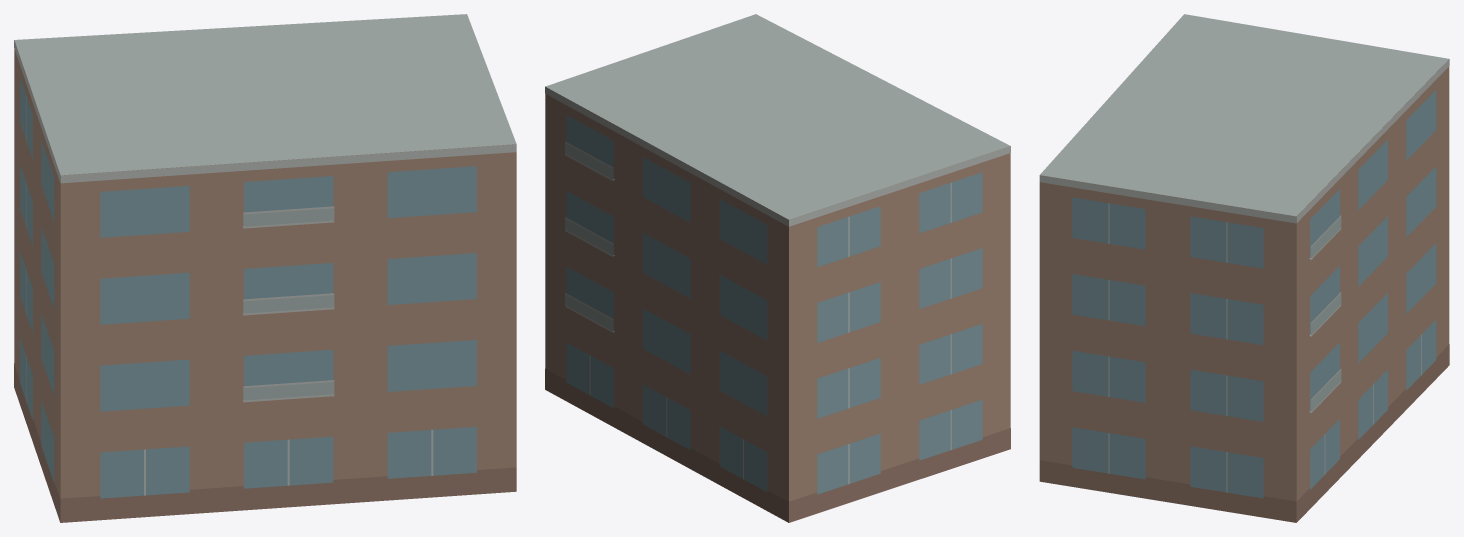
Rendered from survey-upis-32471092.glb.
3 renders of one model, left to right at view 1: azimuth 30°, elevation 25°; view 2: azimuth 150°, elevation 25°; view 3: azimuth 270°, elevation 25°, orthographic. The views are drawn at different scales.
Parts seen in each view (by area): view 1: survey-upis-32471092.tmp; view 2: survey-upis-32471092.tmp; view 3: survey-upis-32471092.tmp.
Boxes of the visible parts, box(x1,y1,x2,y2) form: survey-upis-32471092.tmp: box(14, 14, 516, 522); survey-upis-32471092.tmp: box(545, 14, 1010, 522); survey-upis-32471092.tmp: box(1039, 14, 1449, 522).
Bounding box in the file's own units: 14.95 × 10.55 × 12.8.
